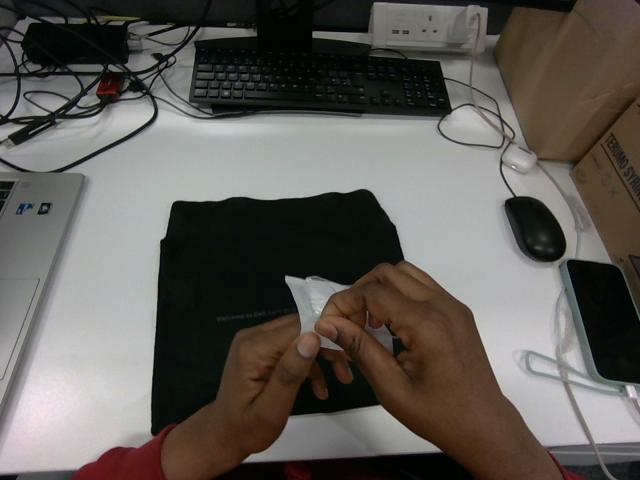gauze: (285, 276, 348, 333)
